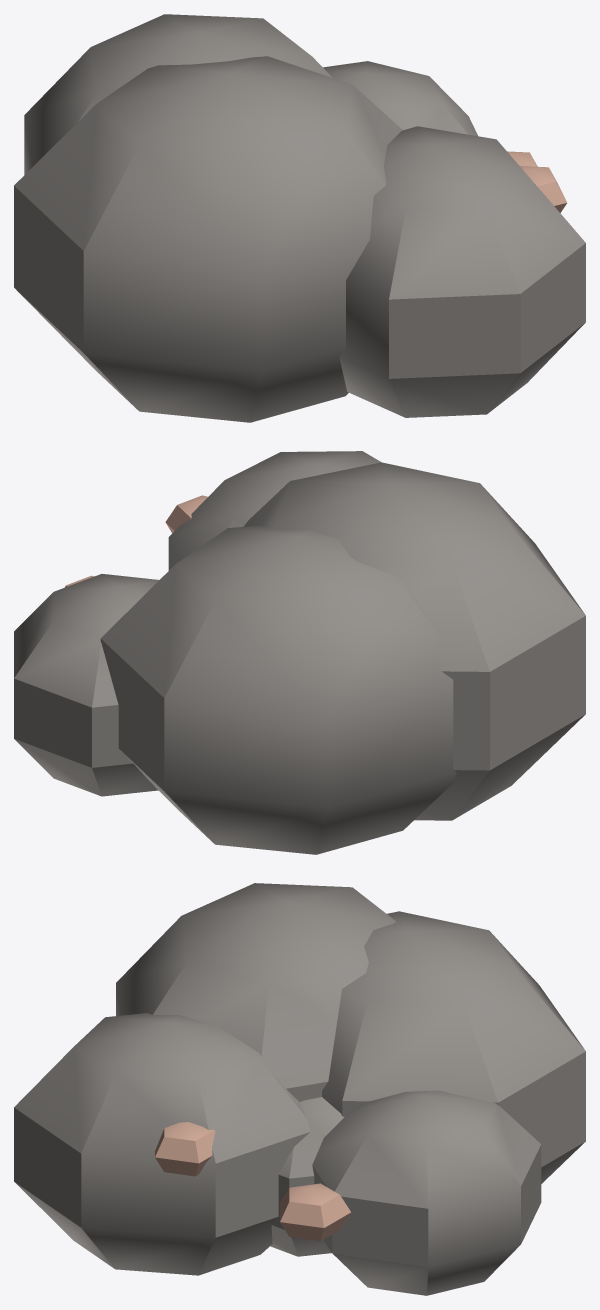
The model's file is rock_copper.gltf.
3 renders of one model, top to bottom at view 1: azimuth 30°, elevation 25°; view 2: azimuth 150°, elevation 25°; view 3: azimuth 270°, elevation 25°, orthographic. The views are drawn at different scales.
Parts seen in each view (by area): view 1: Body; view 2: Body; view 3: Body.
Part boxes in pixels (x1,y1,x2,y2): Body: (14,14,585,422); Body: (14,451,585,854); Body: (14,883,585,1295).
Bounding box in the file's own units: 1.38 × 0.864 × 1.45.
